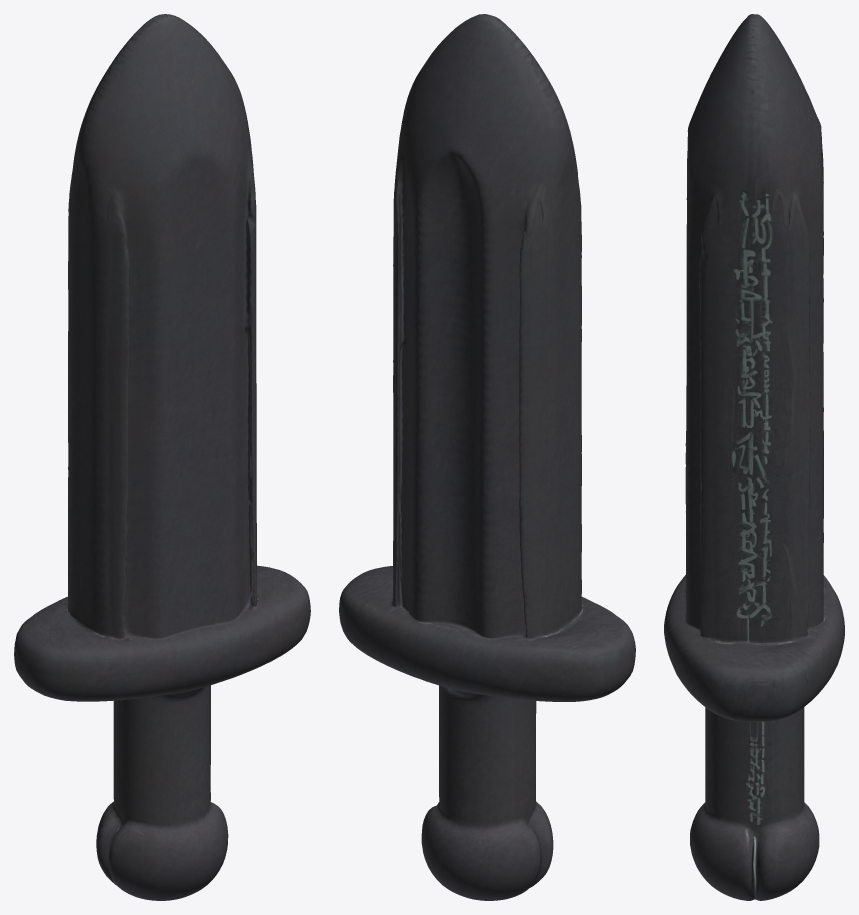
Rendered from SwordWeapon.glb.
The picture shows the model from 3 angles, left to right: view 1: azimuth 30°, elevation 25°; view 2: azimuth 150°, elevation 25°; view 3: azimuth 270°, elevation 25°; orthographic projection.
Parts seen in each view (by area): view 1: texture_mapping; view 2: texture_mapping; view 3: texture_mapping.
Boxes of the visible parts, <box> form: texture_mapping: <box>14,14,310,900</box>; texture_mapping: <box>339,14,635,900</box>; texture_mapping: <box>664,14,844,900</box>.
Size of the model in its own units: 0.3311 by 1 by 0.1874.
Materials: 1 (1 with a texture image).
